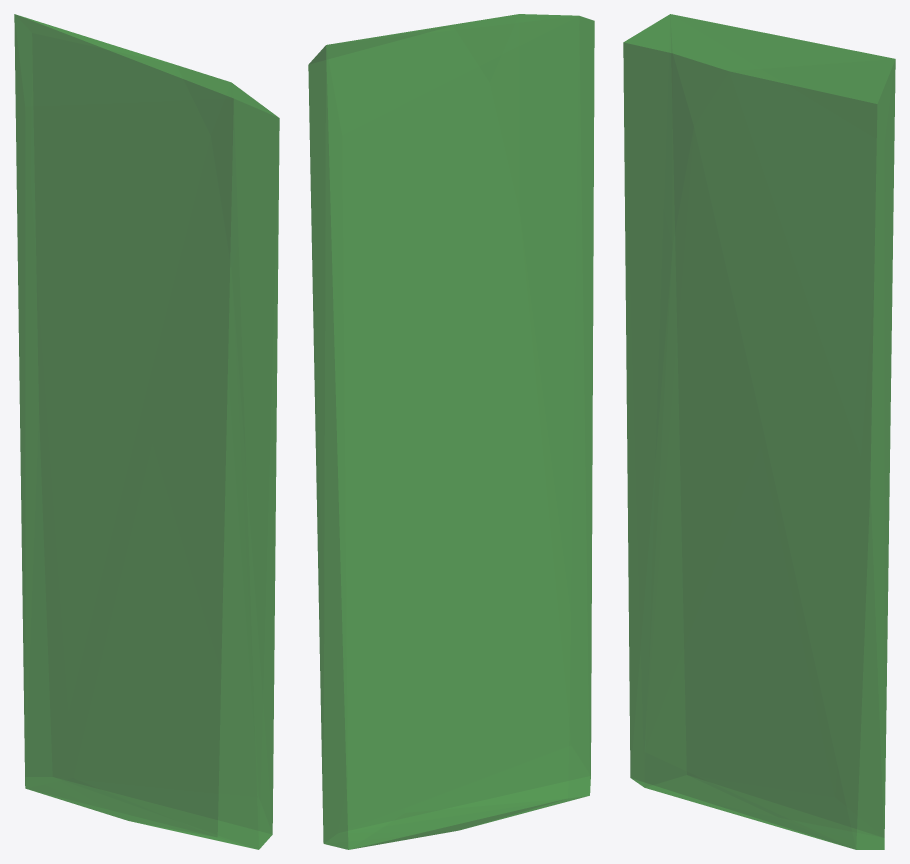
3 views of the same model, side by side, from view 1: azimuth 90°, elevation 25°; view 2: azimuth 150°, elevation 25°; view 3: azimuth 270°, elevation 25° (orthographic). The views are drawn at different scales.
Visible parts, largest first — view 1: Shape_IndexedFaceSet.015_Shape_IndexedFaceSet.12337; view 2: Shape_IndexedFaceSet.015_Shape_IndexedFaceSet.12337; view 3: Shape_IndexedFaceSet.015_Shape_IndexedFaceSet.12337.
Boxes of the visible parts, bbox=[...] form: Shape_IndexedFaceSet.015_Shape_IndexedFaceSet.12337: bbox=[14, 14, 279, 849]; Shape_IndexedFaceSet.015_Shape_IndexedFaceSet.12337: bbox=[308, 14, 594, 849]; Shape_IndexedFaceSet.015_Shape_IndexedFaceSet.12337: bbox=[623, 14, 895, 849].
Size of the model in its own units: 0.0658 by 0.3091 by 0.0961.
